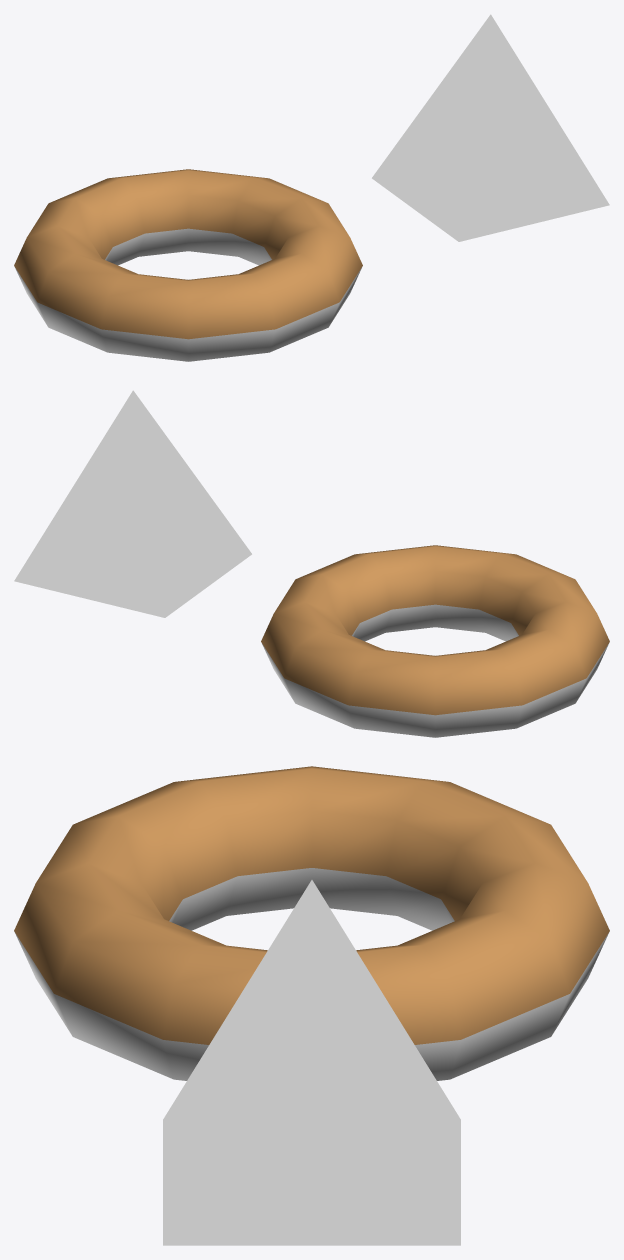
The model's file is inspection.gltf.
The picture shows the model from 3 angles, top to bottom: view 1: azimuth 30°, elevation 25°; view 2: azimuth 150°, elevation 25°; view 3: azimuth 270°, elevation 25°; orthographic projection. The views are drawn at different scales.
Parts seen in each view (by area): view 1: Body, Lid; view 2: Body, Lid; view 3: Body, Lid.
Boxes of the visible parts, x1,y1,x2,y2 form: Body: (14,169,362,361); Lid: (372,14,609,241); Body: (261,545,609,737); Lid: (14,390,251,617); Body: (14,766,609,1080); Lid: (163,880,460,1245).
Size of the model in its own units: 3.5 by 1.37 by 2.
